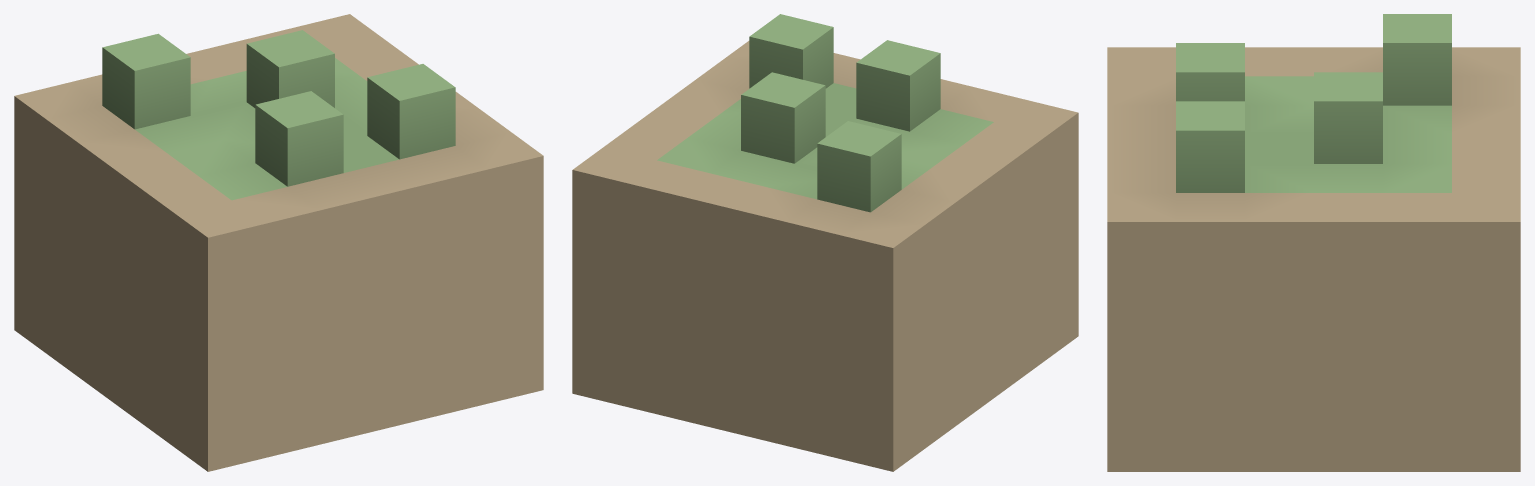
The model's file is cageot_choux.glb.
3 renders of one model, left to right at view 1: azimuth 30°, elevation 25°; view 2: azimuth 150°, elevation 25°; view 3: azimuth 270°, elevation 25°, orthographic. The views are drawn at different scales.
Visible parts, largest first — view 1: geometry_0; view 2: geometry_0; view 3: geometry_0.
Part boxes in pixels (bbox=[...]): geometry_0: bbox=[14, 14, 543, 471]; geometry_0: bbox=[572, 14, 1078, 471]; geometry_0: bbox=[1107, 14, 1520, 471].
Size of the model in its own units: 0.75 by 0.625 by 0.75.
